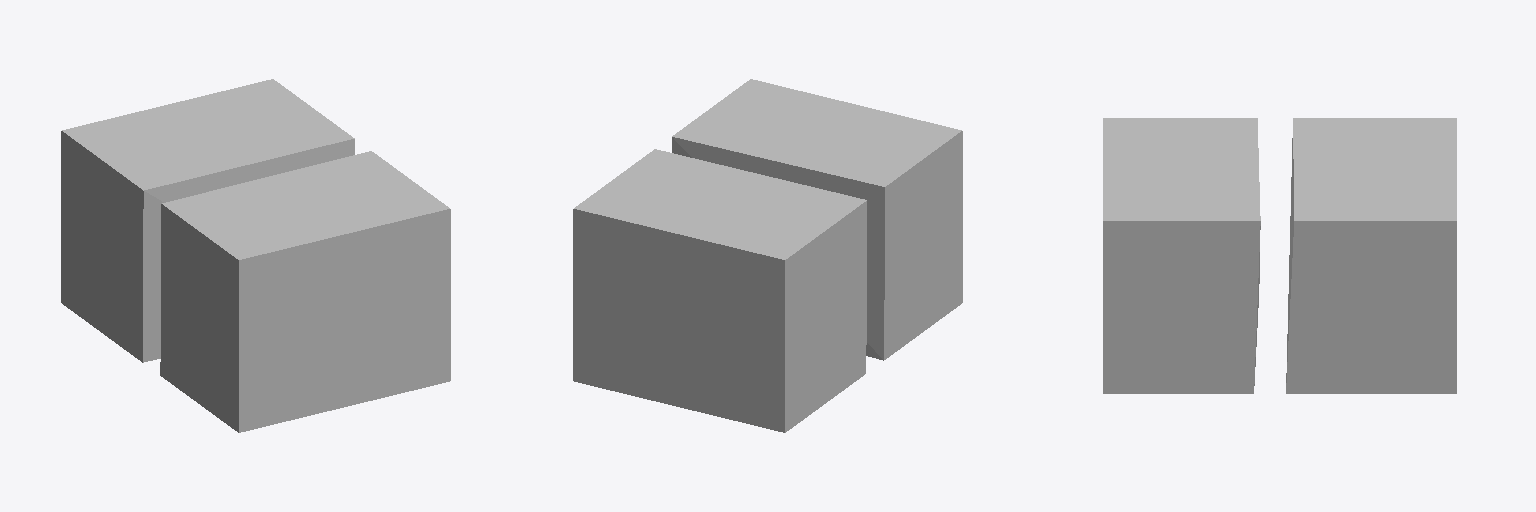
The model's file is block_break4.obj.
3 views of the same model, side by side, from view 1: azimuth 30°, elevation 25°; view 2: azimuth 150°, elevation 25°; view 3: azimuth 270°, elevation 25° (orthographic).
Visible parts, largest first — view 1: block_break4; view 2: block_break4; view 3: block_break4.
Boxes of the visible parts, x1=… form: block_break4: x1=61, y1=79, x2=450, y2=432; block_break4: x1=573, y1=79, x2=962, y2=432; block_break4: x1=1103, y1=118, x2=1456, y2=393.
Bounding box in the file's own units: 0.3 × 0.234 × 0.435.